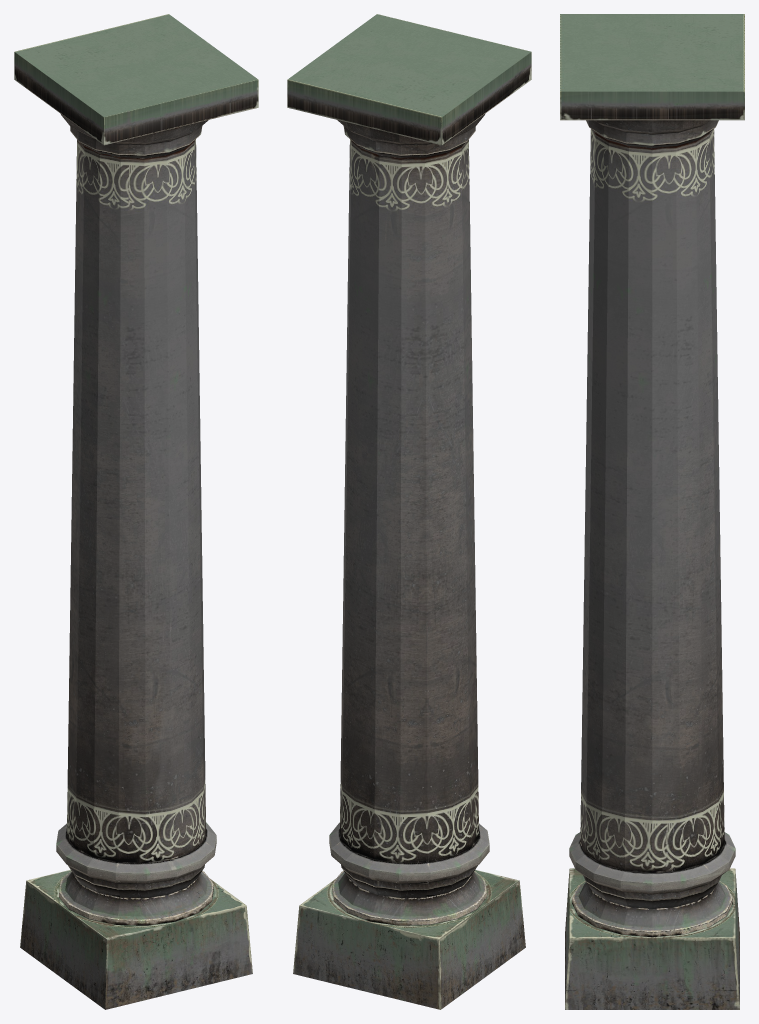
The model's file is BGORQVLCBINX2EPS4WUNIDYTB.obj.
3 views of the same model, side by side, from view 1: azimuth 30°, elevation 25°; view 2: azimuth 150°, elevation 25°; view 3: azimuth 270°, elevation 25° (orthographic). The views are drawn at different scales.
Parts seen in each view (by area): view 1: Object_TexMap_0; view 2: Object_TexMap_0; view 3: Object_TexMap_0.
Boxes of the visible parts, x1=… form: Object_TexMap_0: x1=14, y1=14, x2=258, y2=1009; Object_TexMap_0: x1=287, y1=14, x2=531, y2=1009; Object_TexMap_0: x1=560, y1=14, x2=744, y2=1009.
Bounding box in the file's own units: 0.4518 × 2.5 × 0.4547.
1 material, 1 textured.
